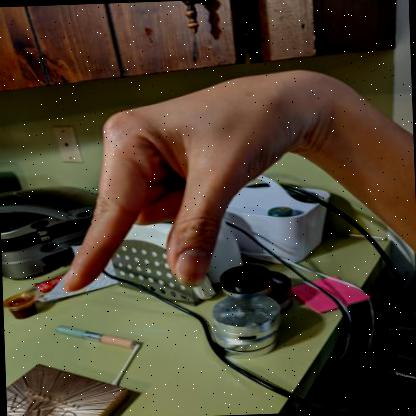Q: (54, 70, 298, 297)
